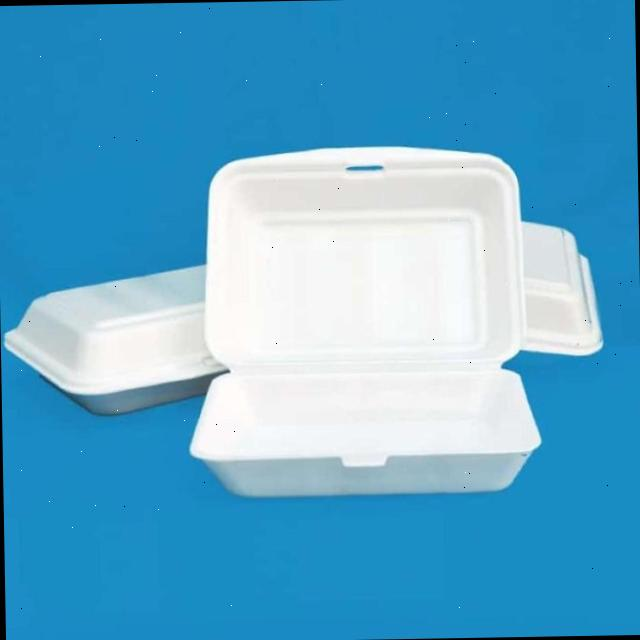styrofoam: (1, 140, 606, 502)
